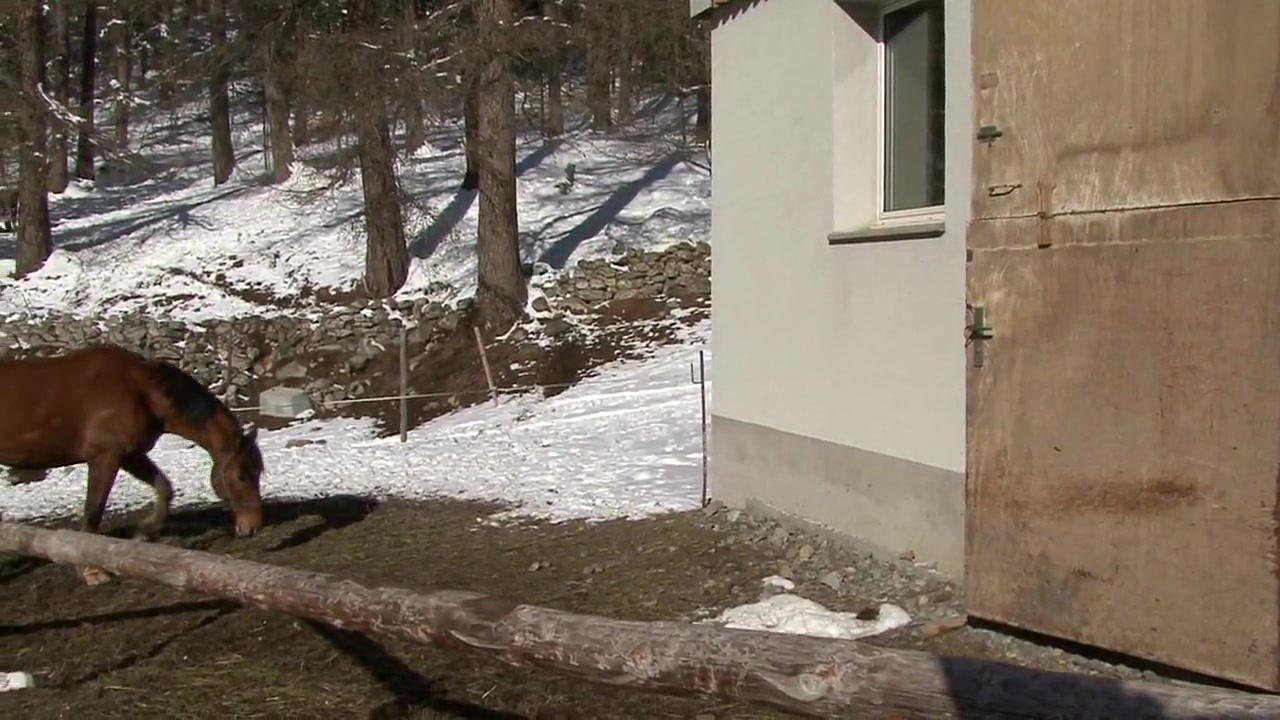horse: (1, 342, 268, 589)
